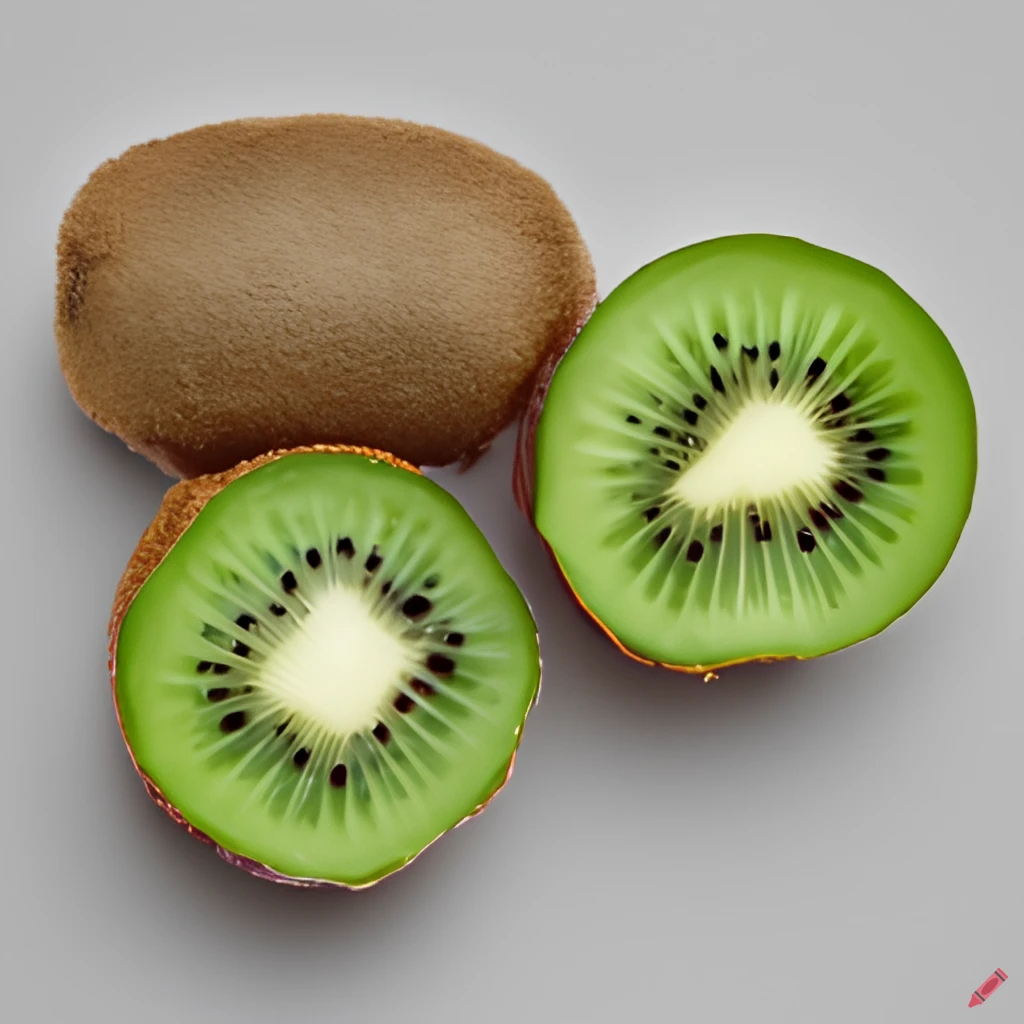Kiwi: (31, 66, 586, 508), (95, 429, 562, 926), (524, 221, 979, 686)
